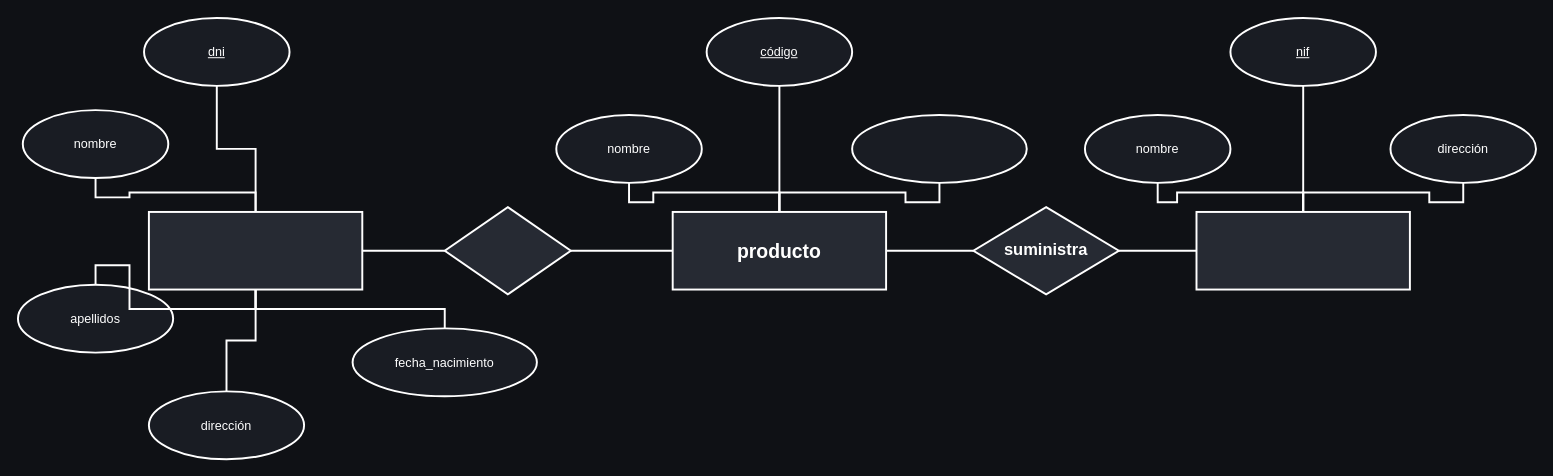
This 1553x476 diagram has some shape labels left out. The centre of each missing label's shape, as x and y in pixels:
cliente: (x=255, y=250)
compra: (x=507, y=250)
precio_unitario: (x=939, y=148)
proveedor: (x=1302, y=250)
